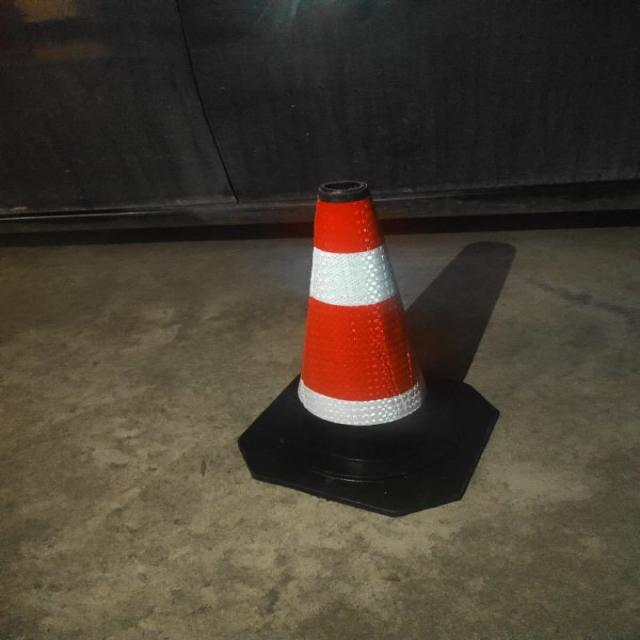reflective_cone: (237, 179, 501, 515)
